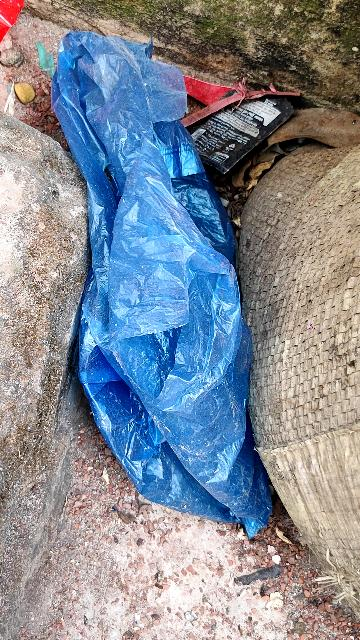polythene: (17, 17, 284, 557)
